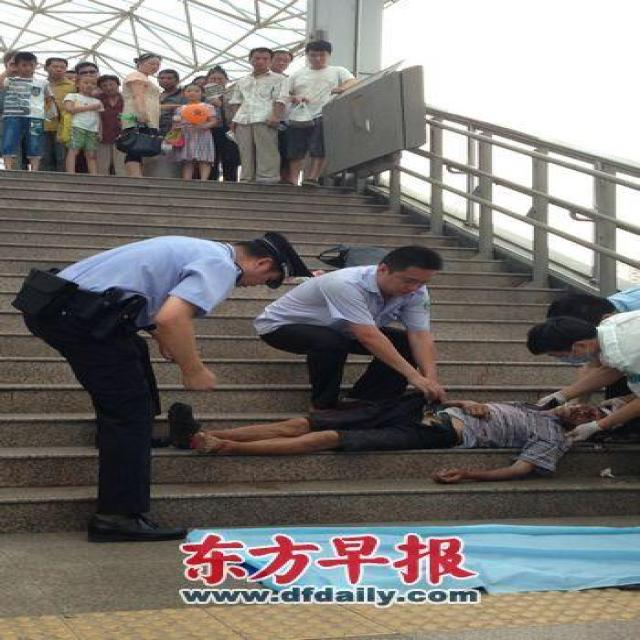10-: (0, 35, 638, 542)
down: (157, 388, 624, 487)
